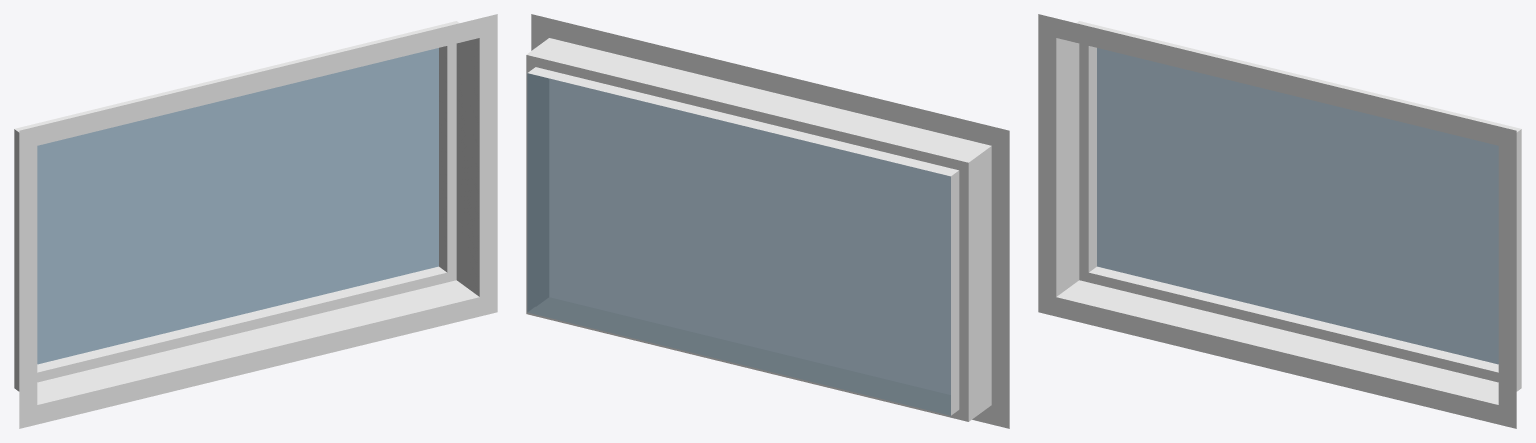
The model's file is p-44-window-stairs-horizontal.fbx.
The picture shows the model from 3 angles, left to right: view 1: azimuth 30°, elevation 25°; view 2: azimuth 150°, elevation 25°; view 3: azimuth 330°, elevation 25°; orthographic projection.
Parts seen in each view (by area): view 1: window-stairs-horizontal; view 2: window-stairs-horizontal; view 3: window-stairs-horizontal.
Part boxes in pixels (bbox=[...]): window-stairs-horizontal: bbox=[14, 14, 497, 428]; window-stairs-horizontal: bbox=[526, 14, 1009, 428]; window-stairs-horizontal: bbox=[1038, 14, 1521, 428].
Size of the model in its own units: 112 by 66.77 by 12.75.
